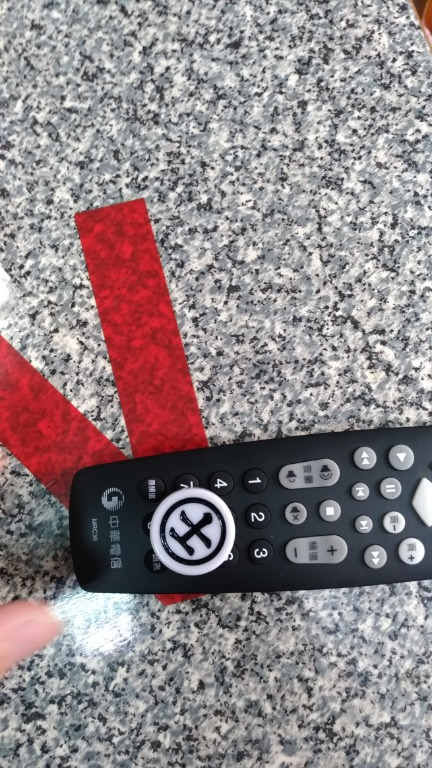b-advisor: (126, 486, 260, 597)
